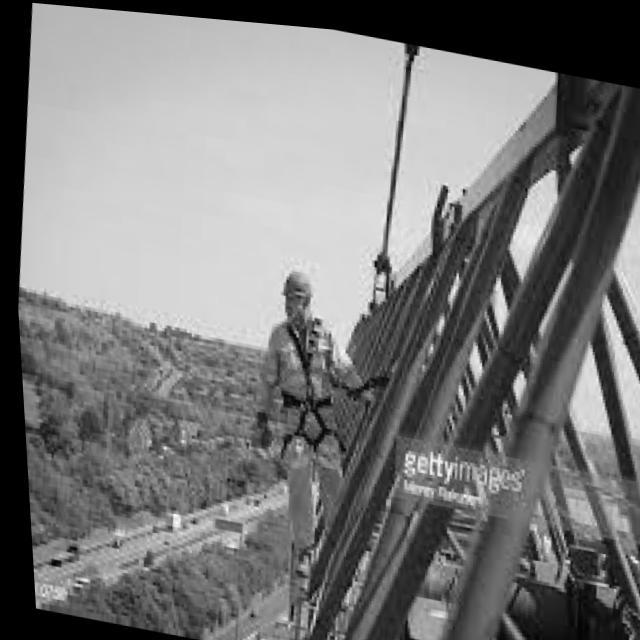belt: (257, 300, 358, 458)
